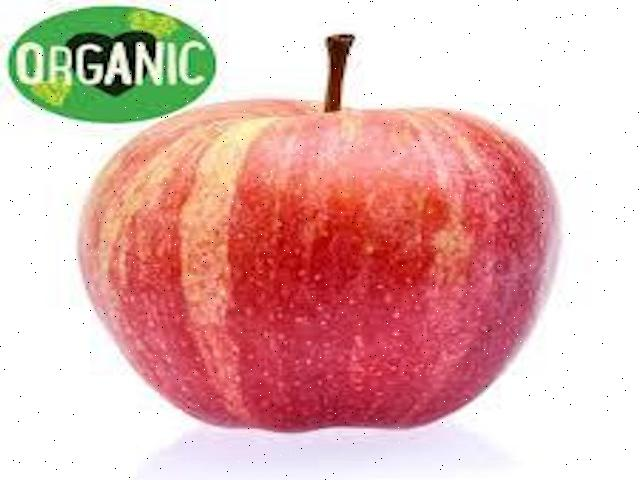apple: (71, 28, 566, 438)
